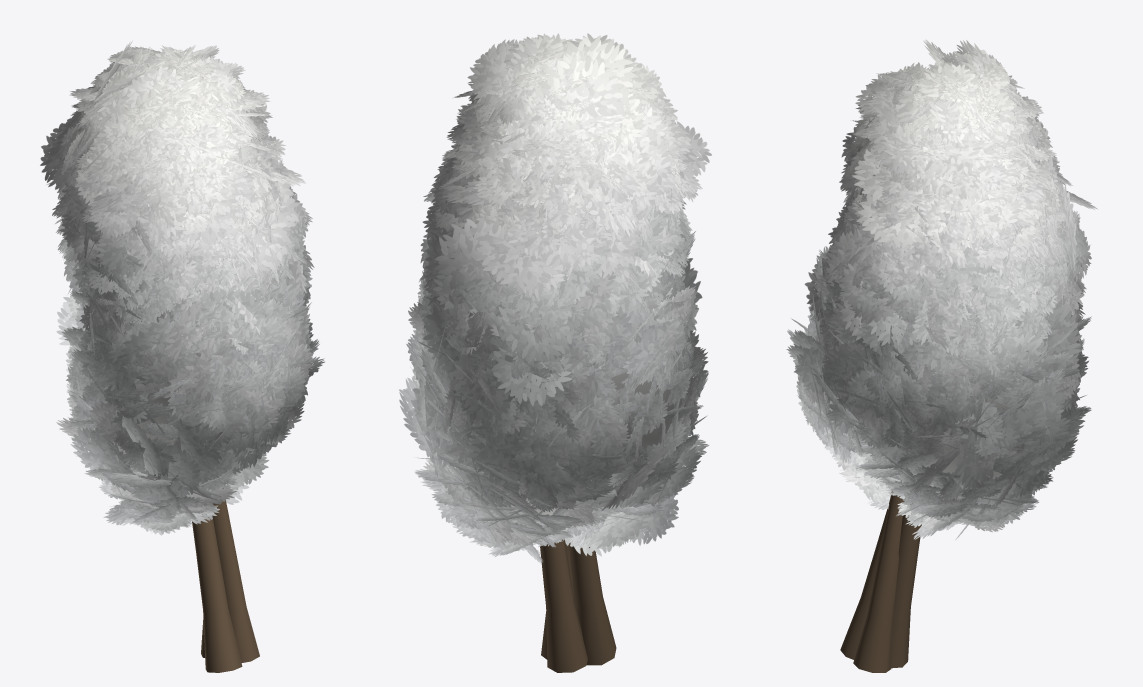
File: al-hero.glb
3 renders of one model, left to right at view 1: azimuth 30°, elevation 25°; view 2: azimuth 150°, elevation 25°; view 3: azimuth 270°, elevation 25°, orthographic. The views are drawn at different scales.
Parts seen in each view (by area): view 1: crown, trunk; view 2: crown, trunk; view 3: crown, trunk.
Boxes of the visible parts, bbox=[...] form: crown: bbox=[40, 41, 324, 535]; trunk: bbox=[192, 488, 259, 672]; crown: bbox=[399, 33, 711, 563]; trunk: bbox=[540, 539, 616, 672]; crown: bbox=[786, 40, 1097, 539]; trunk: bbox=[840, 491, 921, 672].
Bounding box in the file's own units: 5.64 × 12.34 × 6.6.
2 materials, 1 textured.
